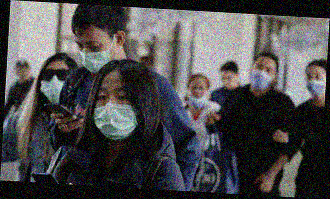mask_weared_incorrect: (186, 83, 209, 109)
with_mask: (92, 82, 141, 142), (40, 64, 72, 105), (250, 61, 276, 89), (304, 70, 326, 97)
without_mask: (219, 71, 238, 90)
